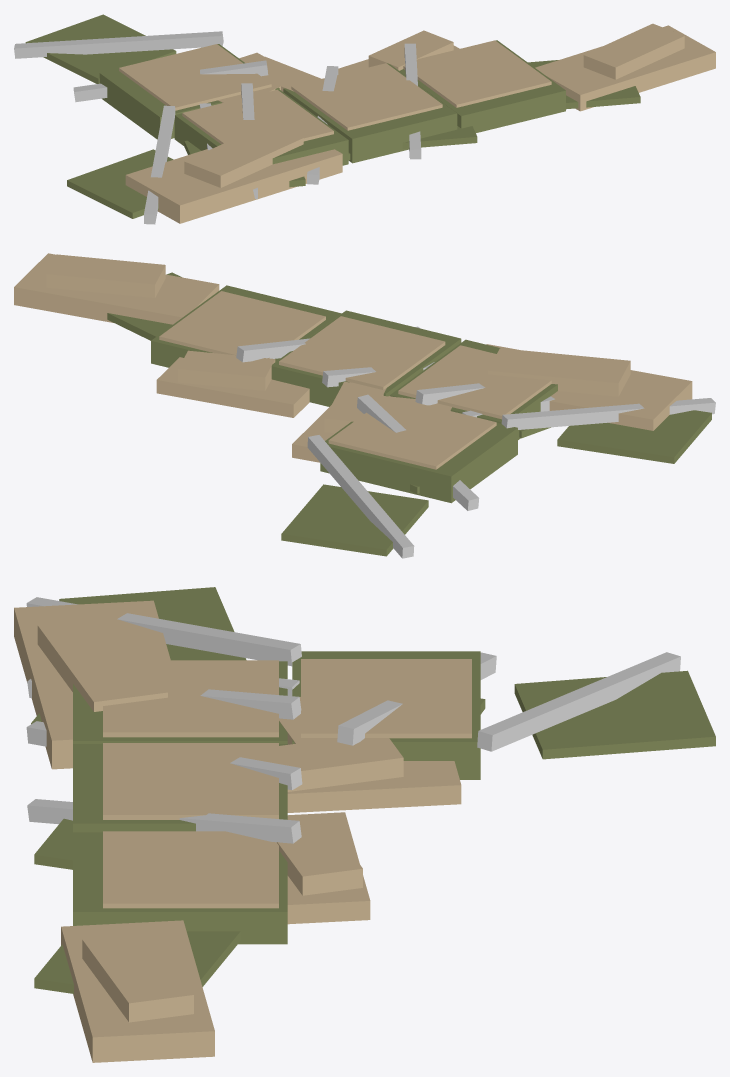
The model's file is SM_HescoRemate_v0_MallaLimpia_e3_Brecha_LOD1.fbx.
The picture shows the model from 3 angles, top to bottom: view 1: azimuth 30°, elevation 25°; view 2: azimuth 150°, elevation 25°; view 3: azimuth 270°, elevation 25°; orthographic projection. The views are drawn at different scales.
Parts seen in each view (by area): view 1: SM_hesco_piezas_v23_LOD1; view 2: SM_hesco_piezas_v23_LOD1; view 3: SM_hesco_piezas_v23_LOD1.
Boxes of the visible parts, left/top/right/bottom form: SM_hesco_piezas_v23_LOD1: left=14, top=14, right=715, bottom=224; SM_hesco_piezas_v23_LOD1: left=14, top=253, right=715, bottom=558; SM_hesco_piezas_v23_LOD1: left=14, top=587, right=715, bottom=1062.
Size of the model in its own units: 6.23 by 0.351 by 3.99.
